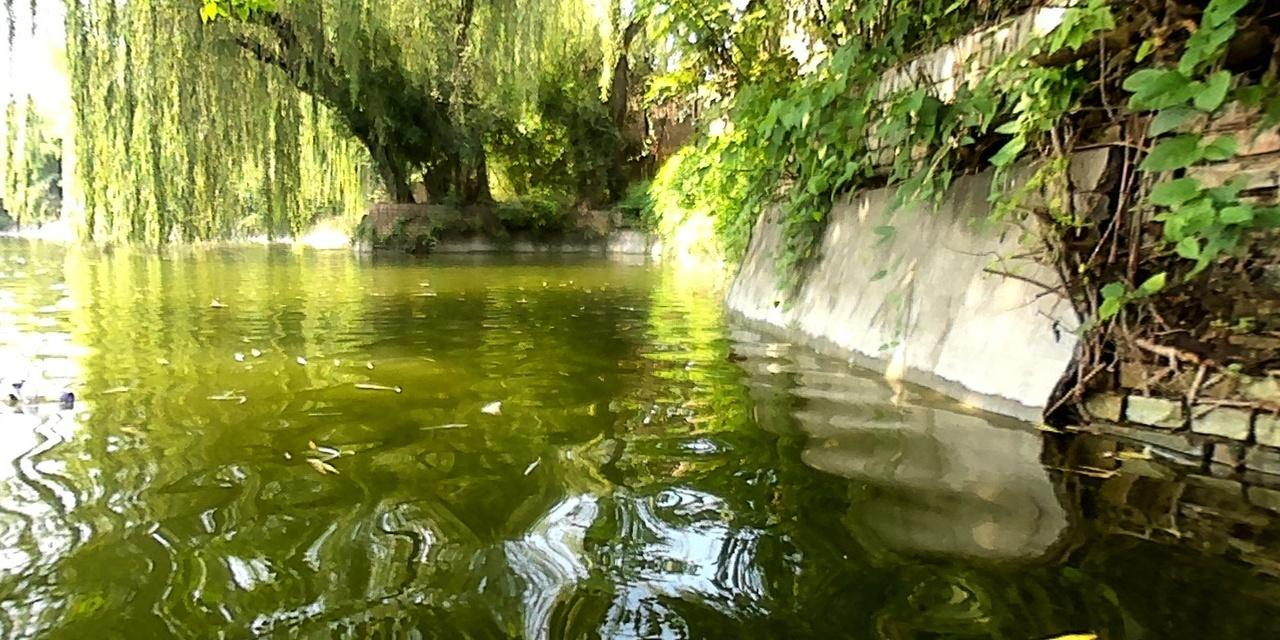bottle: (0, 372, 77, 413)
